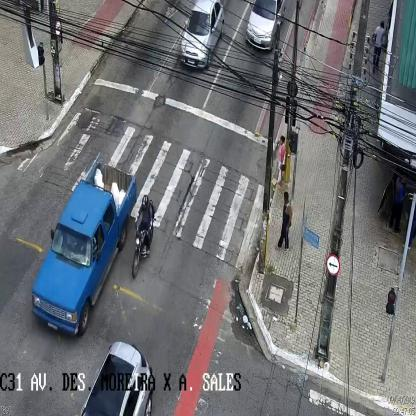car: (33, 162, 137, 338), (180, 2, 225, 69), (244, 1, 283, 52)
motorbike: (132, 195, 154, 283)
person: (389, 176, 405, 230), (276, 194, 292, 247), (371, 22, 387, 74), (277, 137, 289, 188)
